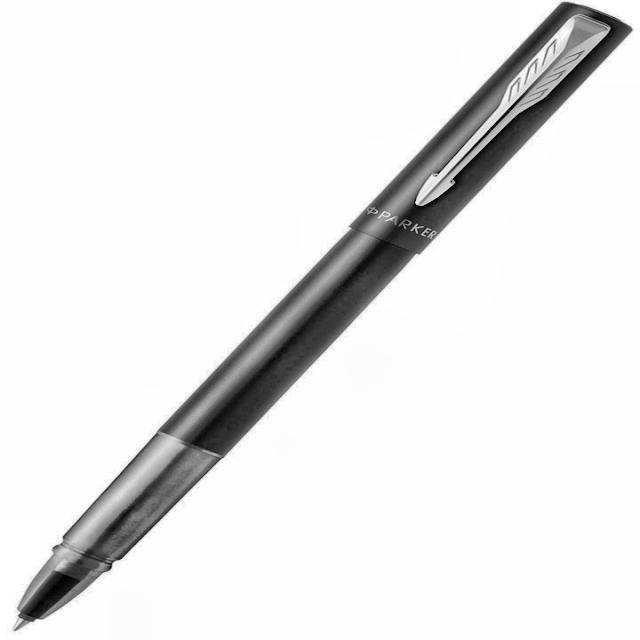Pen: (11, 3, 636, 634)
